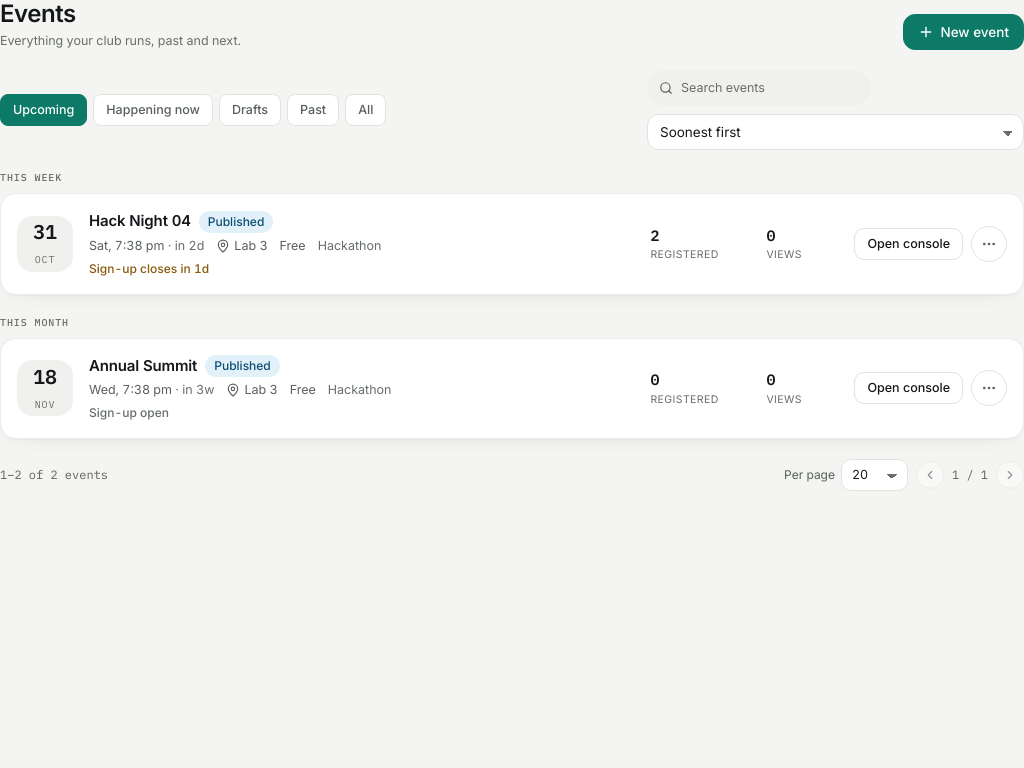
deleting an event from the events list › says plainly that an event nobody registered for is removed from the app
Press Enter in the button named "More for Annual Summit", box [971,370,1007,406]
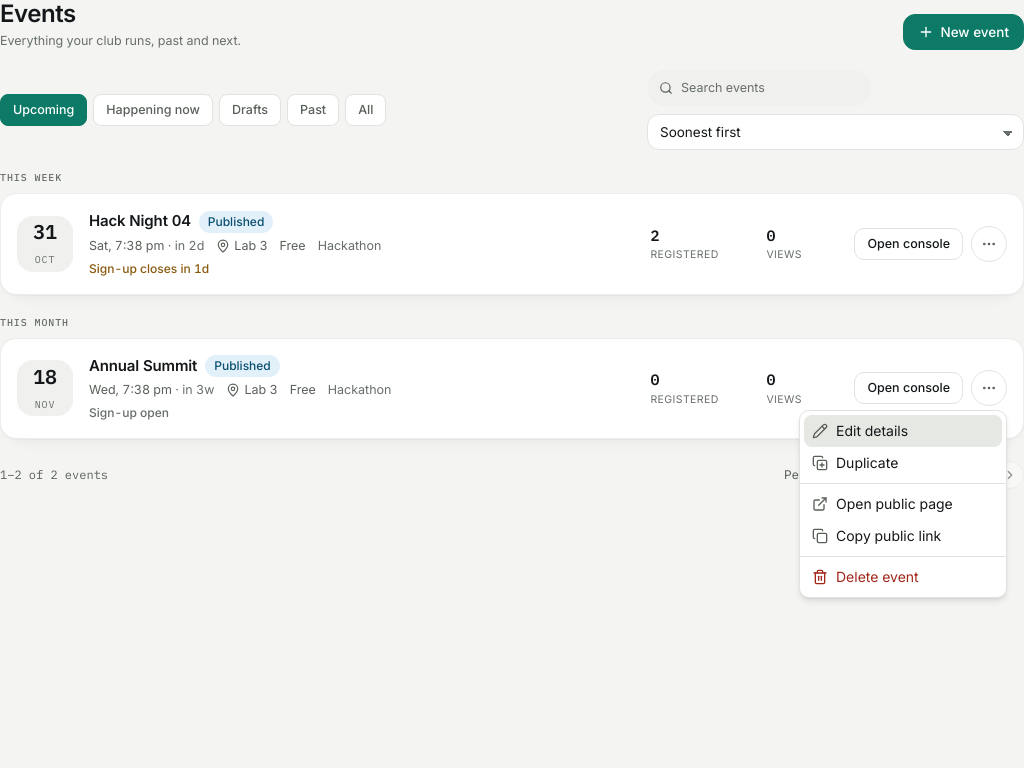
Click the menu item "Delete event" at point(865, 576), box [812,568,919,585]
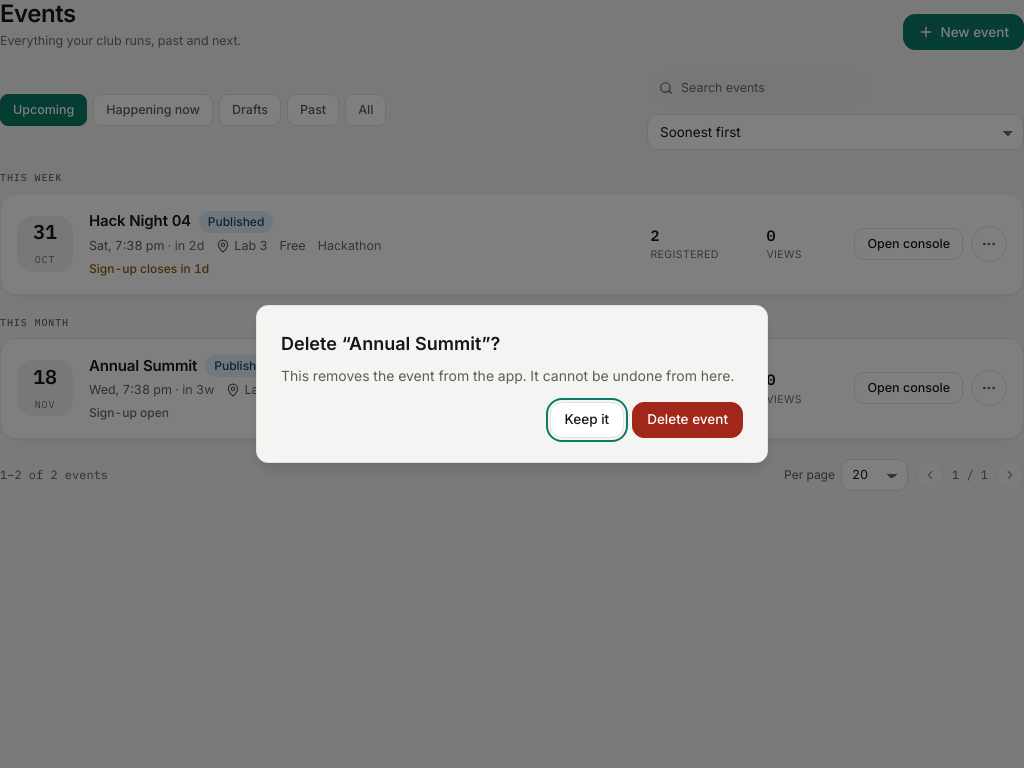
Expected: the text "This removes the event from the app" is shown, [281,367,734,384]
